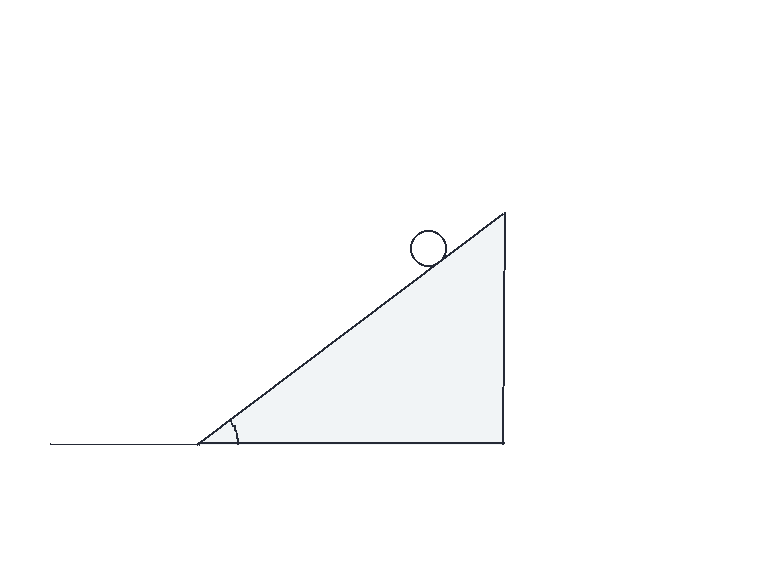ball: (408, 228, 448, 268)
ramp: (196, 212, 506, 446)
